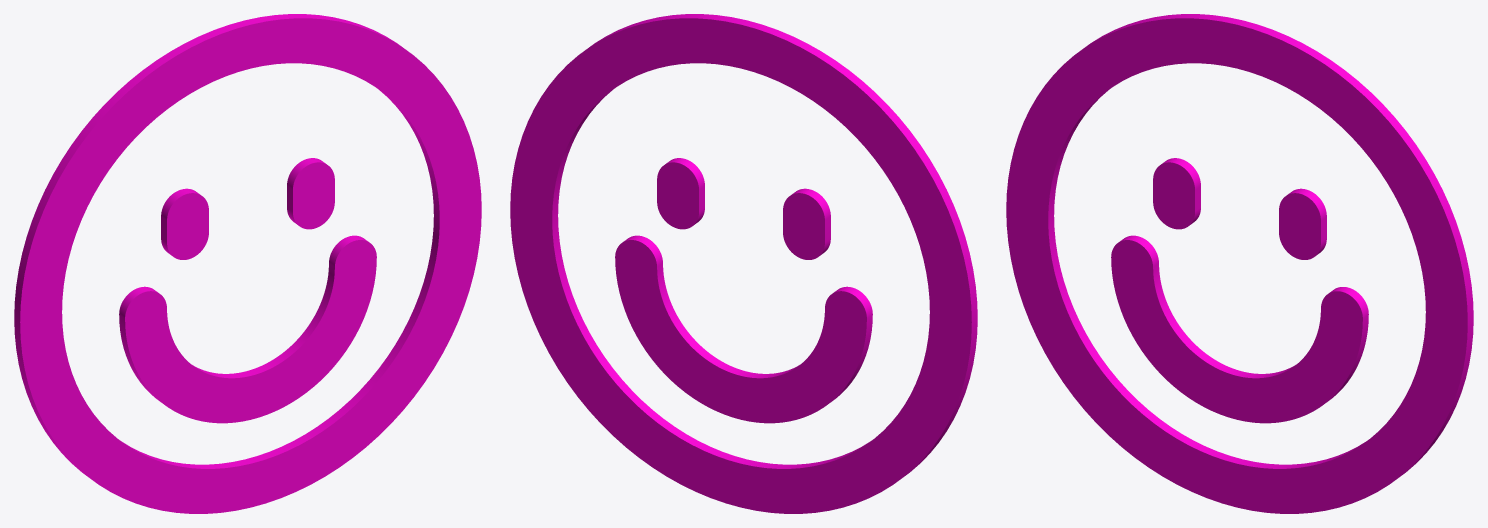
The model's file is smile7.glb.
3 views of the same model, side by side, from view 1: azimuth 30°, elevation 25°; view 2: azimuth 150°, elevation 25°; view 3: azimuth 330°, elevation 25° (orthographic).
Parts seen in each view (by area): view 1: Curve; view 2: Curve; view 3: Curve.
Boxes of the visible parts, x1=… form: Curve: x1=14, y1=14, x2=481, y2=513; Curve: x1=510, y1=14, x2=977, y2=513; Curve: x1=1006, y1=14, x2=1473, y2=513.
Size of the model in its own units: 7.02 by 7.01 by 0.1559.
